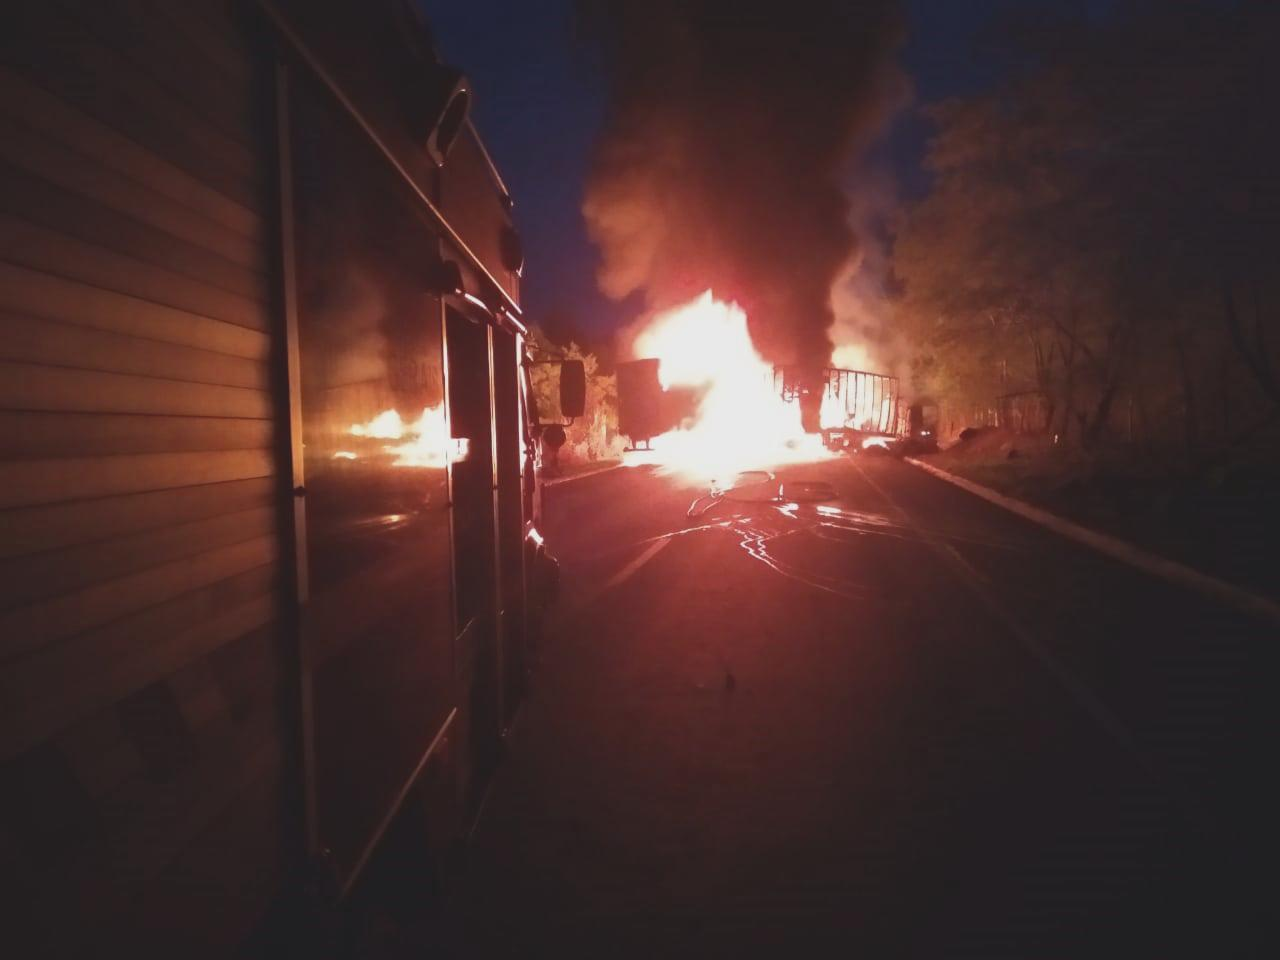Fire: (611, 295, 874, 482)
